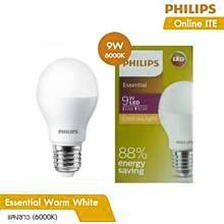book: (107, 33, 196, 186)
light_bulb: (30, 52, 102, 180)
